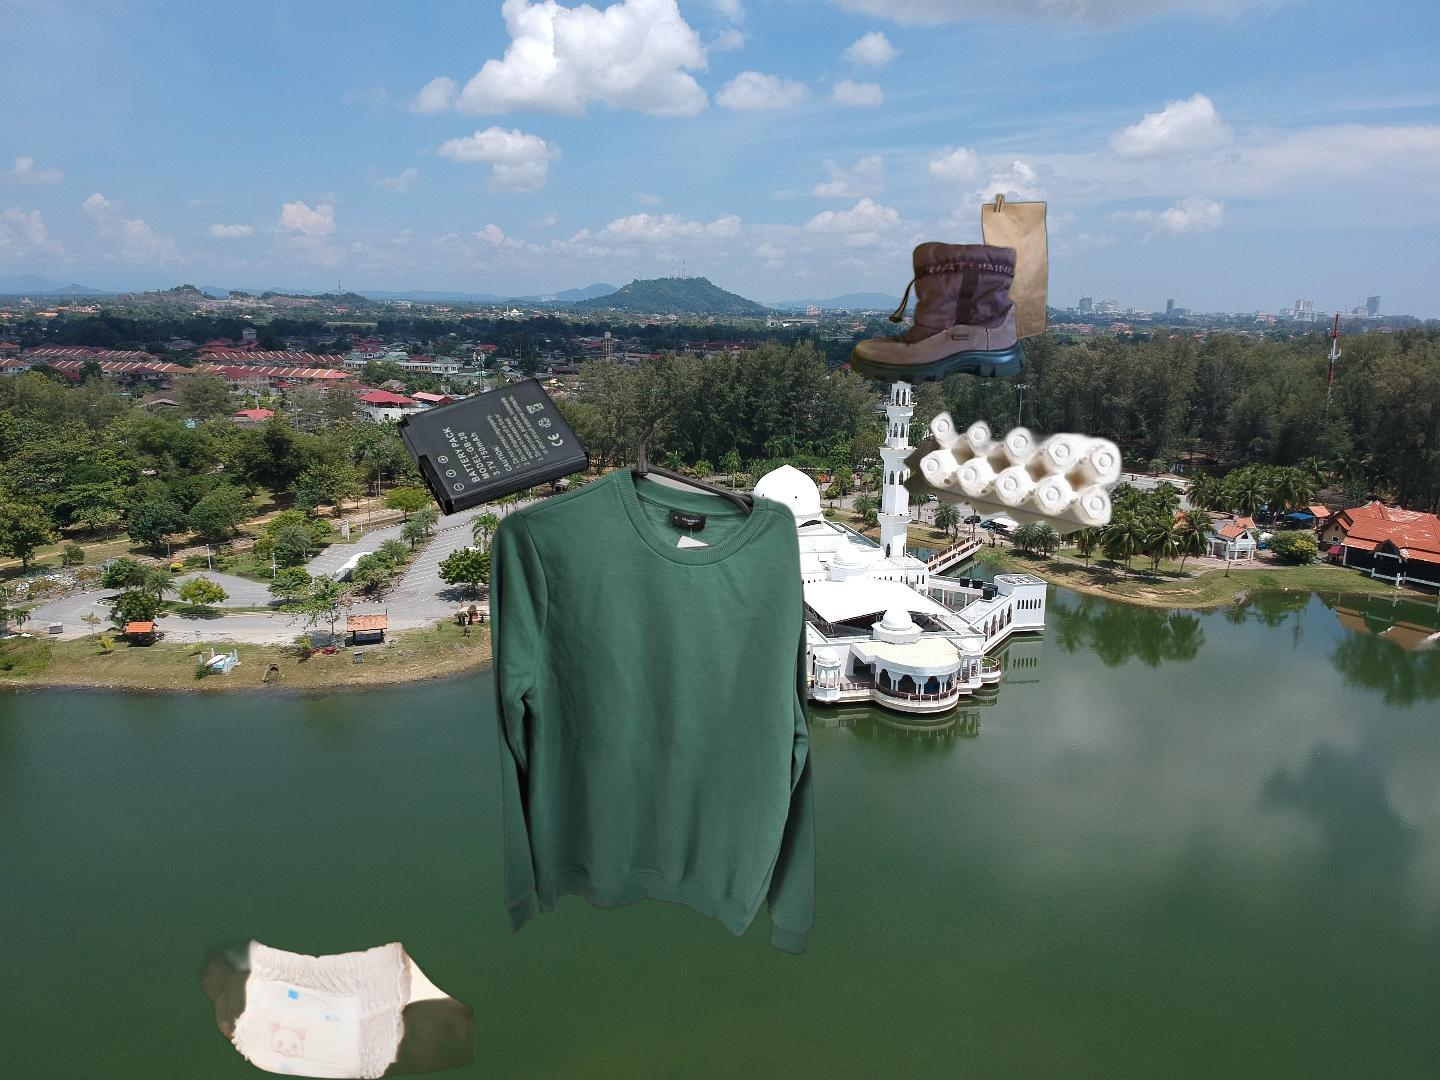battery: (393, 374, 593, 518)
clothes: (486, 427, 819, 960)
paper-bag: (979, 189, 1073, 357)
shoes: (846, 239, 1032, 387)
trash: (194, 910, 474, 1080)
trashbox-cardboard: (900, 386, 1144, 537)
